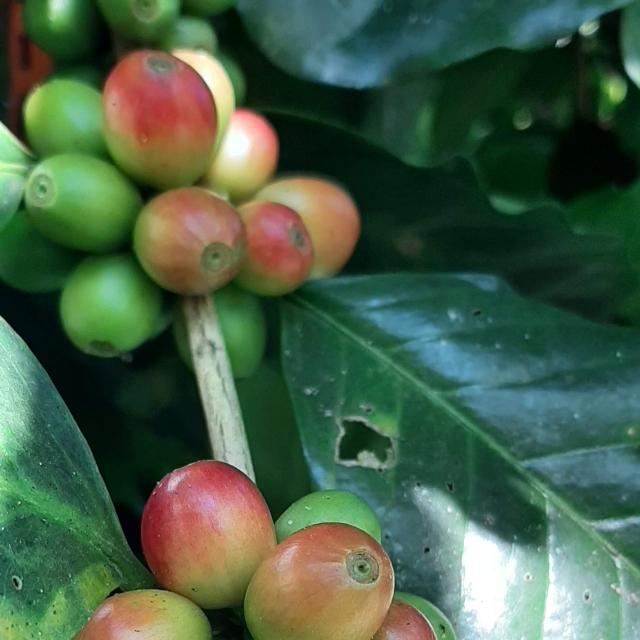green: (23, 153, 141, 253), (58, 253, 162, 358), (0, 209, 82, 293), (22, 78, 106, 158), (275, 491, 381, 544), (213, 283, 265, 378), (395, 593, 457, 640)
yellow: (141, 461, 276, 610), (244, 524, 394, 640), (101, 49, 217, 190), (134, 187, 245, 296), (254, 175, 360, 279), (235, 201, 313, 296), (202, 108, 278, 202), (72, 590, 212, 640), (171, 48, 235, 151)
